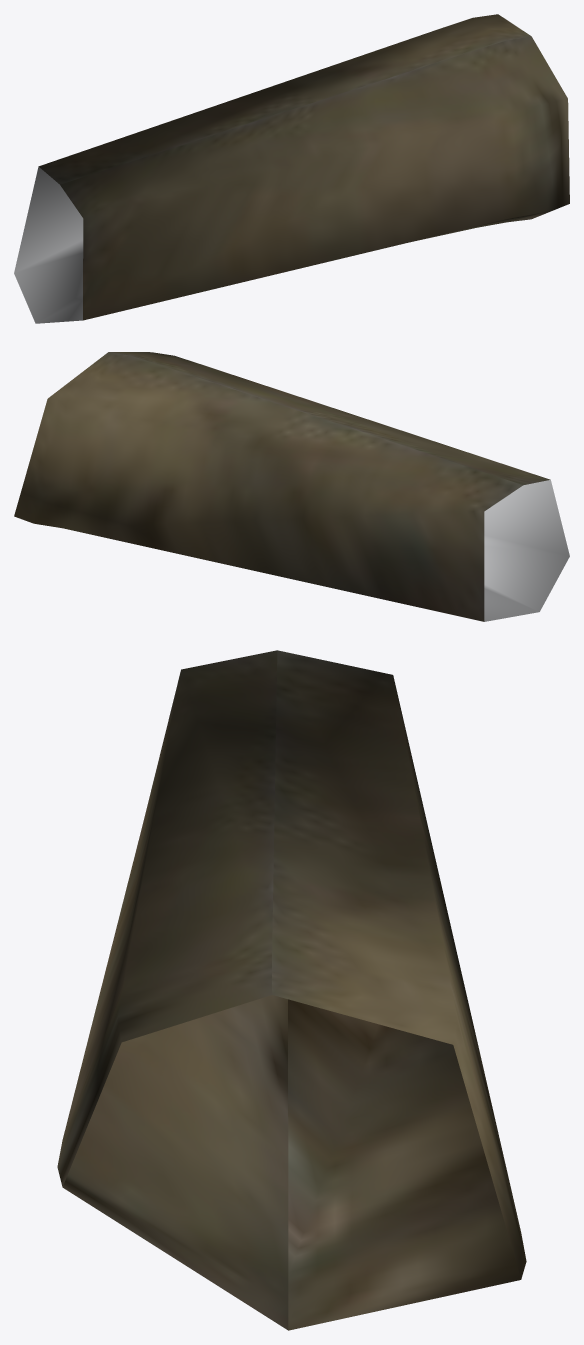
The model's file is foresleeve2.fbx.
3 views of the same model, one above another, from view 1: azimuth 30°, elevation 25°; view 2: azimuth 150°, elevation 25°; view 3: azimuth 270°, elevation 25° (orthographic). The views are drawn at different scales.
Parts seen in each view (by area): view 1: Mesh_001; view 2: Mesh_001; view 3: Mesh_001.
Boxes of the visible parts, x1,y1,x2,y2 form: Mesh_001: (14,14,569,323); Mesh_001: (14,352,569,621); Mesh_001: (57,650,526,1330).
Bounding box in the file's own units: 6.77 × 2.32 × 2.94.
